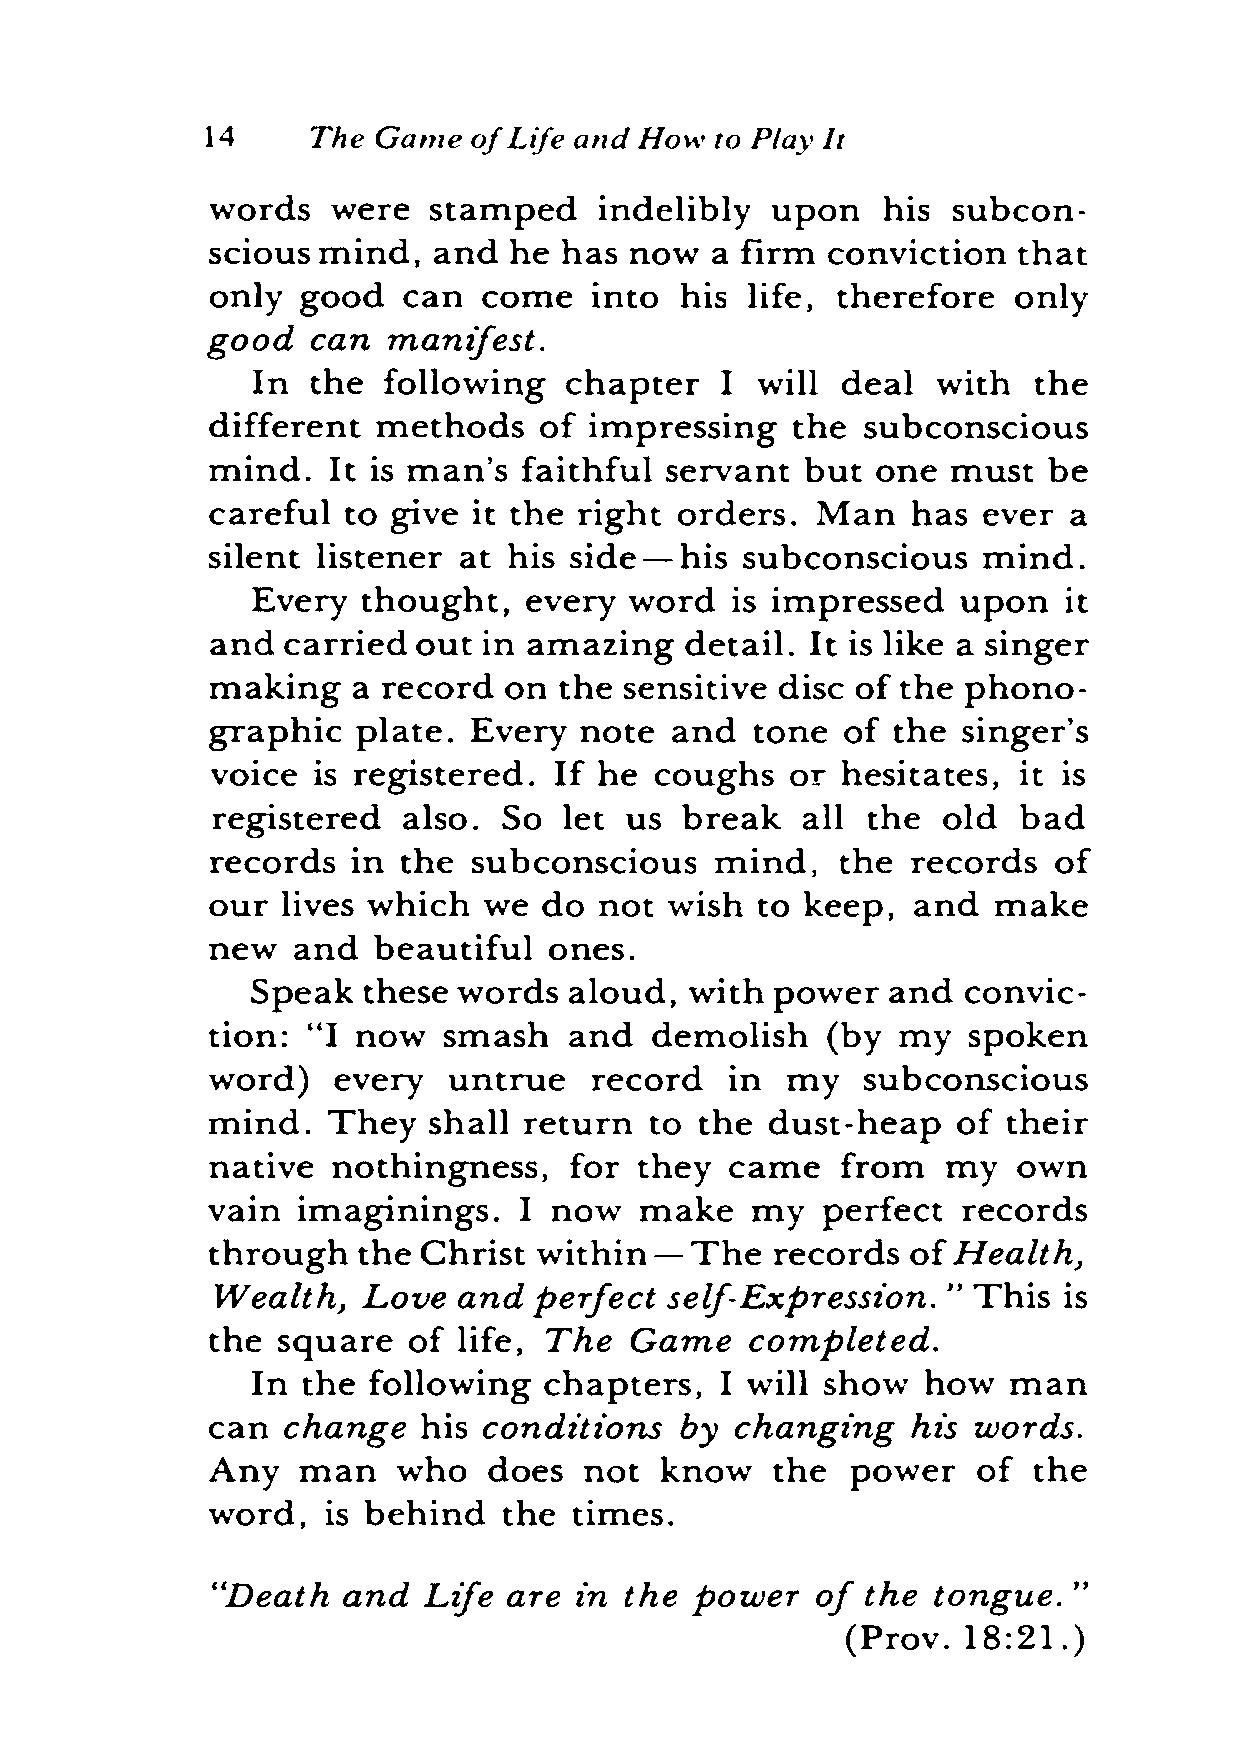content: (203, 191, 1094, 1657)
content_chapter: (299, 123, 848, 158)
content_pagenumber: (201, 117, 236, 154)
